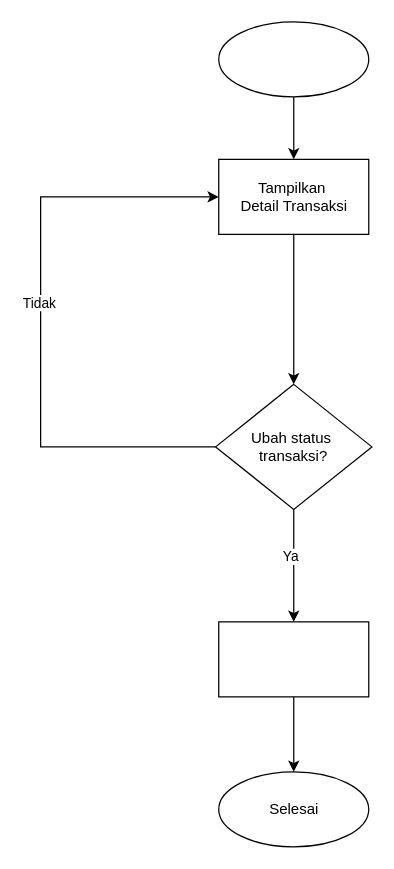
The diagram is 394 pixels wide and 869 high, and some of its shapes have lost their labels. The shapes that lost their labels are listed below. From the top down, each one's centre as x and y in pixels, then its label:
At (x=293, y=59): "Mulai".
At (x=293, y=659): "Update status transaksi".
